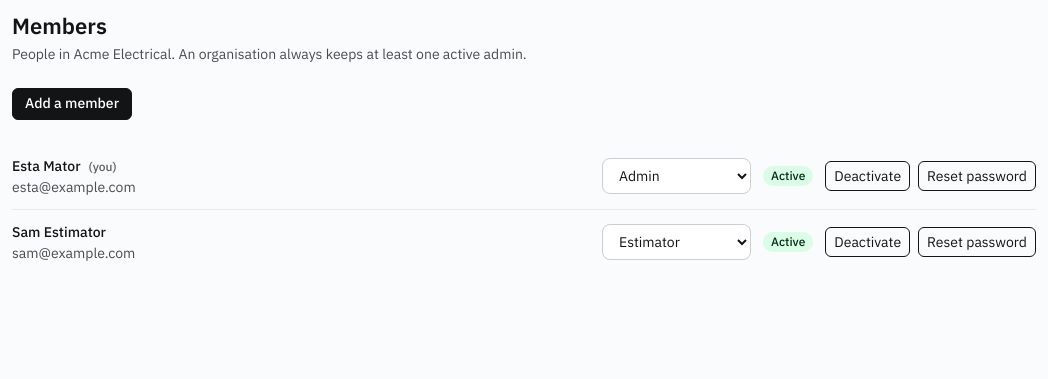
Test: MembersView › resets a password and says sessions ended; the password is not kept
This screenshot has width=1048, height=379.
Click the button with aria-label "Reset password for Sam Estimator" at (977, 242), box [918,227,1036,257]
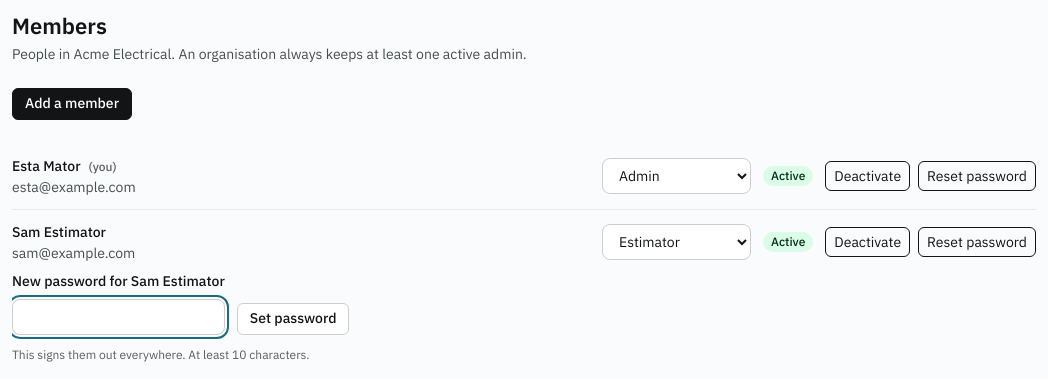
Type "another-long-pass" into the password field labelled "New password for Sam Estimator" at (118, 316), box [12,298,225,334]
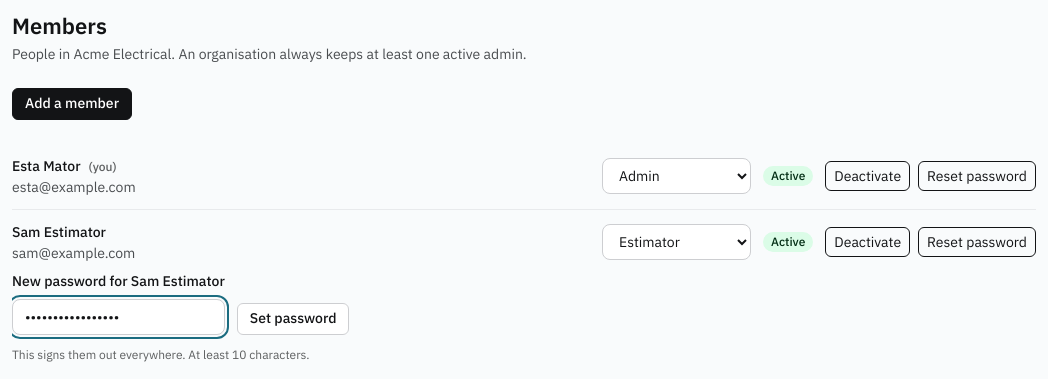
Click the button "Set password" at (293, 318), box [237,302,350,334]
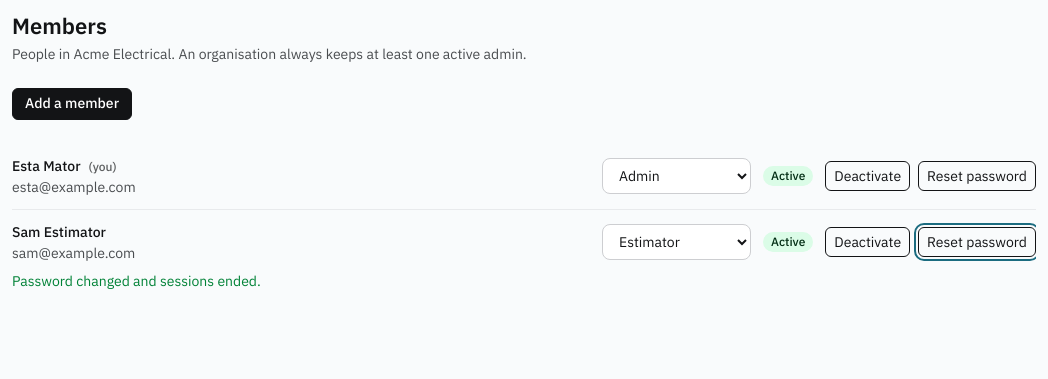
Expected: the text "Password changed and sessions ended." is shown, [12,272,261,290]
Expected: the label labelled "New password for Sam Estimator" is gone
